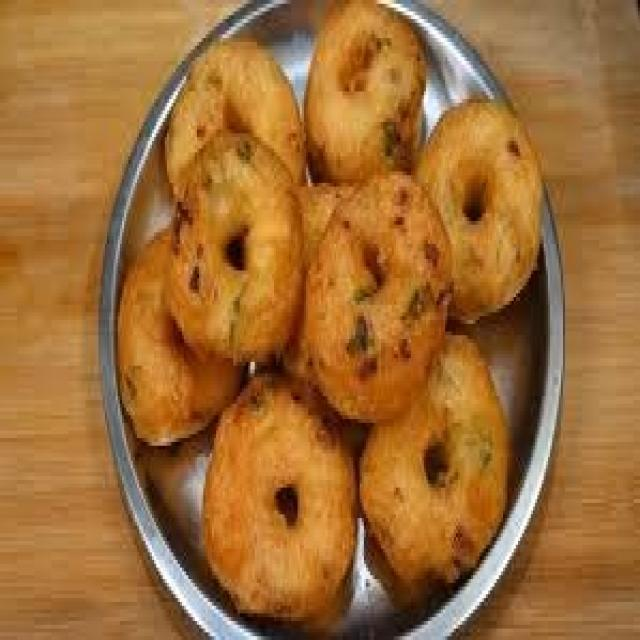medu vadai: (363, 333, 509, 594), (304, 173, 451, 420), (205, 375, 353, 619), (304, 171, 449, 419), (170, 135, 304, 363), (416, 100, 540, 319), (118, 231, 242, 445), (167, 38, 301, 198), (306, 0, 424, 181)
